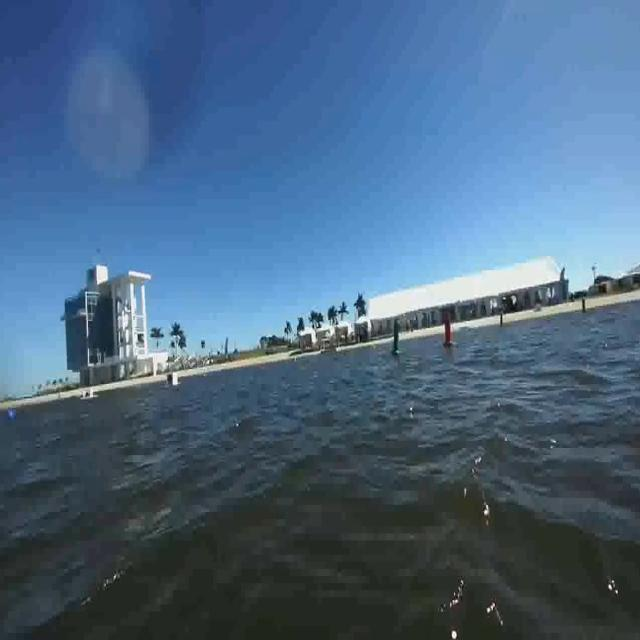green-column-buoy: (391, 322, 404, 359)
red-column-buoy: (441, 308, 457, 351)
